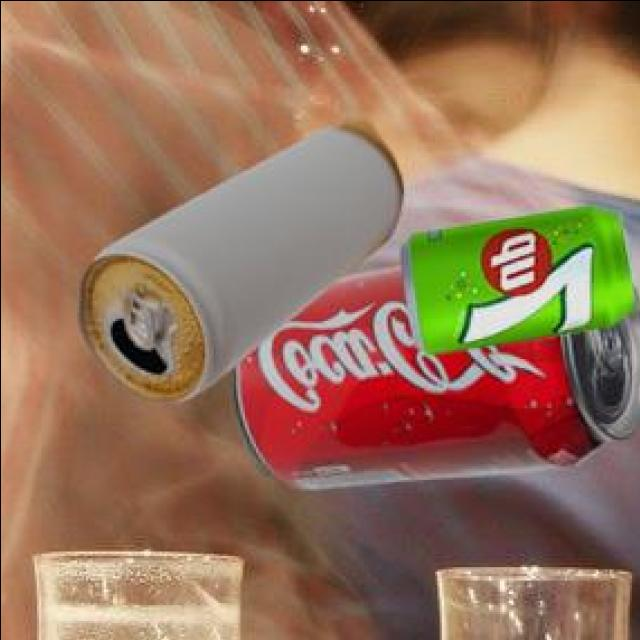logam: (79, 115, 406, 397), (236, 263, 640, 484), (404, 203, 638, 350)
